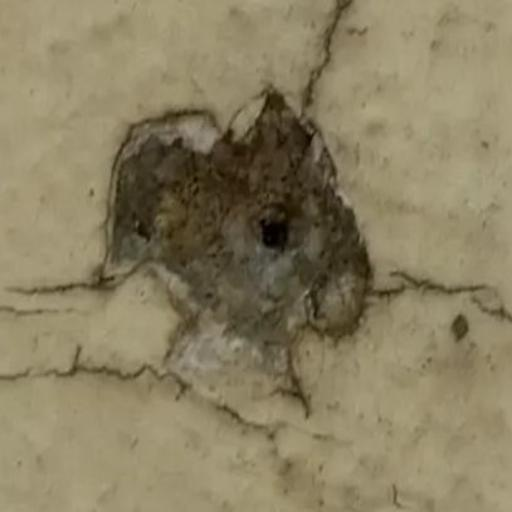spalling: (84, 66, 395, 444)
